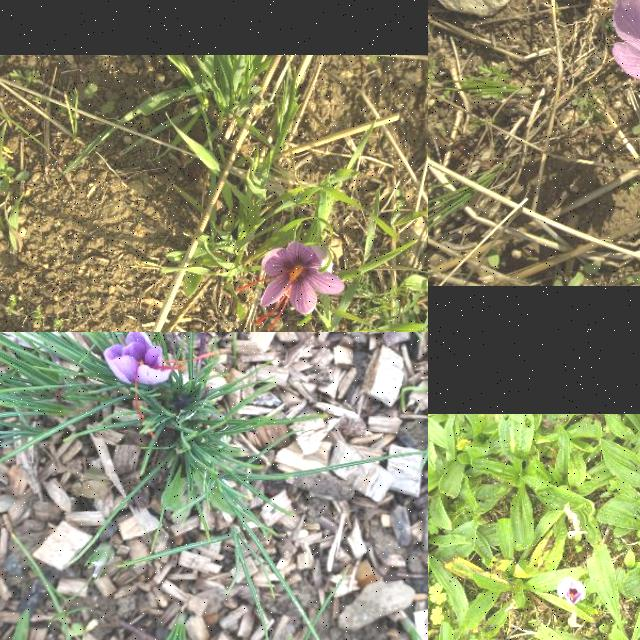flower: (103, 332, 217, 437), (234, 239, 346, 332), (558, 578, 586, 604)
